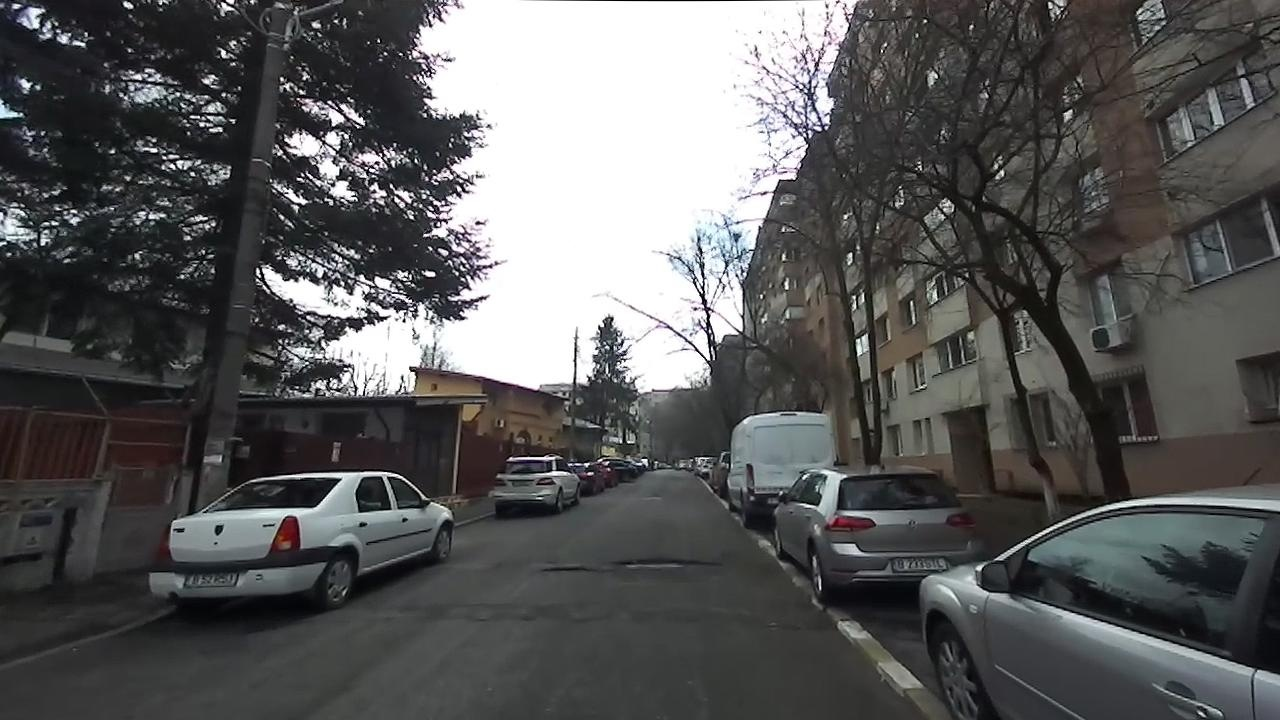pothole: (612, 554, 724, 573), (539, 562, 606, 575)
